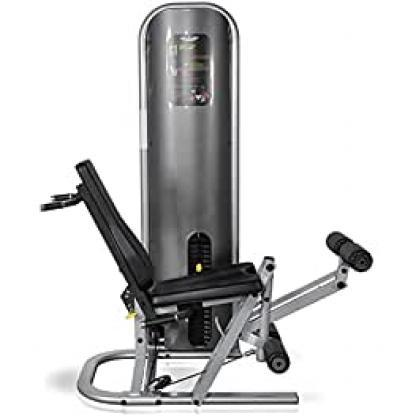leg extension: (38, 158, 377, 403)
